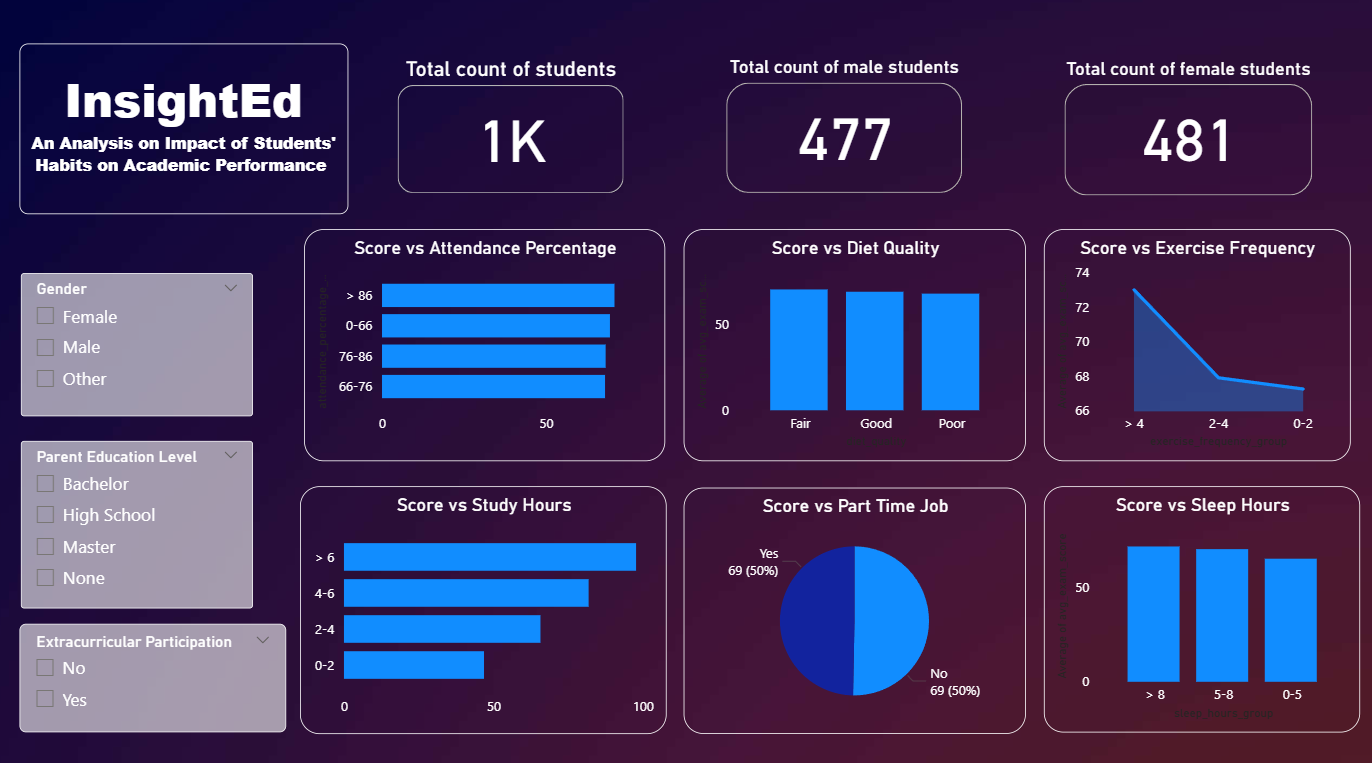

What the dashboard file says about the page in this screenshot:
{"tool":"powerbi","page":{"name":"Page 1","canvas":[1280,720],"ordinal":0},"visuals":[{"type":"cardVisual","title":"Total count of students","fields":{"Data":["Sum(dataset.count_of_students)"]},"box":[369.9,57.2,219.9,132.2],"z":0},{"type":"cardVisual","title":"Total count of female students","fields":{"Data":["Sum(dataset.count_of_students)"]},"box":[985.8,58.5,239.5,133],"z":1000},{"type":"cardVisual","title":"Total count of male students","fields":{"Data":["Sum(dataset.count_of_students)"]},"box":[673.1,57.2,228.8,131.7],"z":2000},{"type":"barChart","title":"Score vs Attendance Percentage","fields":{"Category":["dataset.attendance_percentage_group"],"Y":["Avg(dataset.avg_exam_score)"]},"box":[288.7,216.8,333.9,214.2],"z":3000},{"type":"clusteredColumnChart","title":"Score vs Diet Quality","fields":{"Y":["Avg(dataset.avg_exam_score)"],"Category":["dataset.diet_quality"]},"box":[639.9,216.8,316.6,214.2],"z":4000},{"type":"stackedAreaChart","title":"Score vs Exercise Frequency","fields":{"Category":["dataset.exercise_frequency_group"],"Y":["Avg(dataset.avg_exam_score)"]},"box":[972.5,216.8,283.4,214.2],"z":5000},{"type":"barChart","title":"Score vs Study Hours","fields":{"Category":["dataset.study_hours_per_day_group"],"Y":["Avg(dataset.avg_exam_score)"]},"box":[284.7,455,339.2,228.8],"z":6000},{"type":"pieChart","title":"Score vs Part Time Job","fields":{"Category":["dataset.part_time_job"],"Y":["Avg(dataset.avg_exam_score)"]},"box":[639.9,456.3,316.6,227.5],"z":7000},{"type":"clusteredColumnChart","title":"Score vs Sleep Hours","fields":{"Y":["Avg(dataset.avg_exam_score)"],"Category":["dataset.sleep_hours_group"]},"box":[972.5,455,292.7,227.5],"z":8000},{"type":"slicer","fields":{"Values":["dataset.gender"]},"box":[26.7,258,214.8,132.2],"z":9000},{"type":"slicer","fields":{"Values":["dataset.parental_education_level"]},"box":[26.7,413.1,214.8,155.1],"z":10000},{"type":"slicer","fields":{"Values":["dataset.extracurricular_participation"]},"box":[25.4,582.1,246.6,100.4],"z":11000},{"type":"textbox","box":[25.4,45.8,303.8,157.6],"z":12000}]}

Visuals, with their boxes in screenshot pixels (x1, y1, x2, y2), scaled from the page's 1280x720 canvas onto the 1372x763 screenshot:
"Total count of students" cardVisual: Rect(396, 61, 632, 201)
"Total count of female students" cardVisual: Rect(1057, 62, 1313, 203)
"Total count of male students" cardVisual: Rect(721, 61, 967, 200)
"Score vs Attendance Percentage" barChart: Rect(309, 230, 667, 457)
"Score vs Diet Quality" clusteredColumnChart: Rect(686, 230, 1025, 457)
"Score vs Exercise Frequency" stackedAreaChart: Rect(1042, 230, 1346, 457)
"Score vs Study Hours" barChart: Rect(305, 482, 669, 725)
"Score vs Part Time Job" pieChart: Rect(686, 484, 1025, 725)
"Score vs Sleep Hours" clusteredColumnChart: Rect(1042, 482, 1356, 723)
slicer - dataset.gender: Rect(29, 273, 259, 414)
slicer - dataset.parental_education_level: Rect(29, 438, 259, 602)
slicer - dataset.extracurricular_participation: Rect(27, 617, 292, 723)
textbox: Rect(27, 49, 353, 216)
